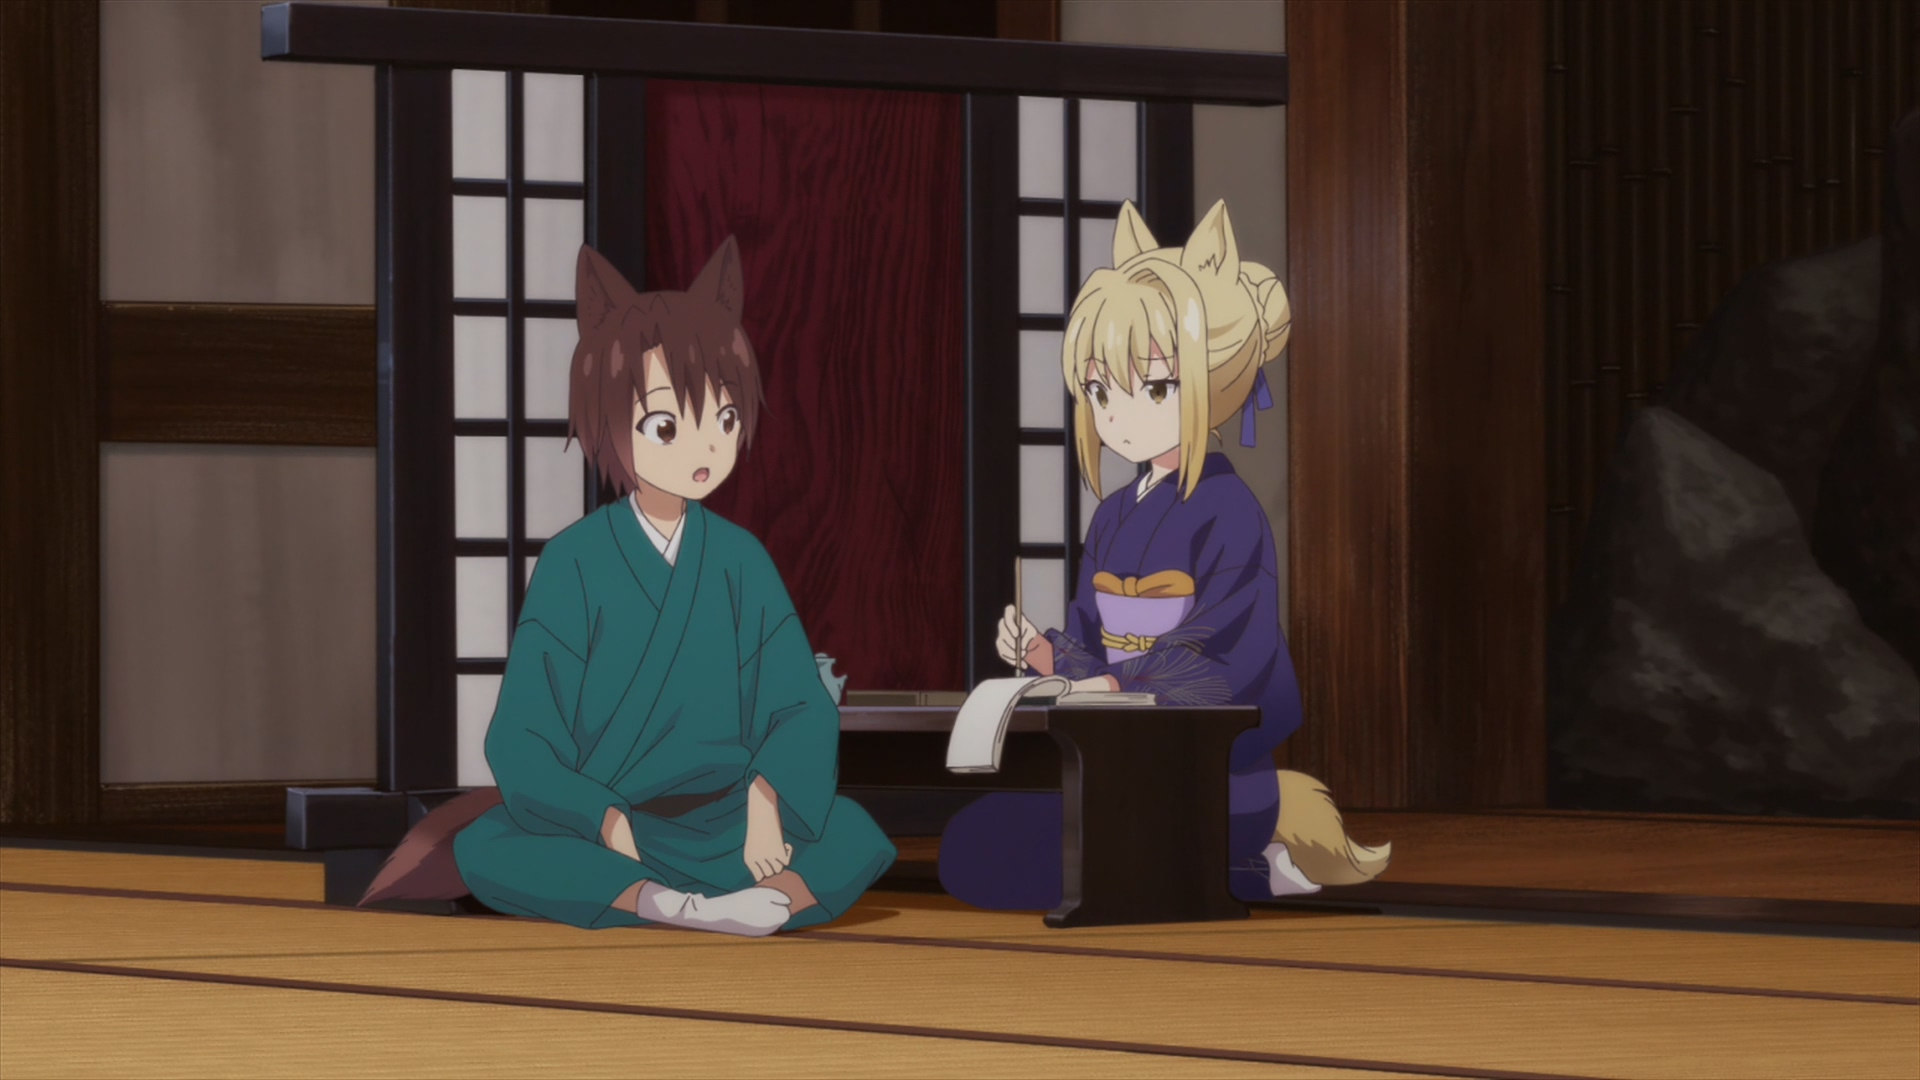枣: (357, 232, 895, 939)
桐: (942, 200, 1393, 902)
